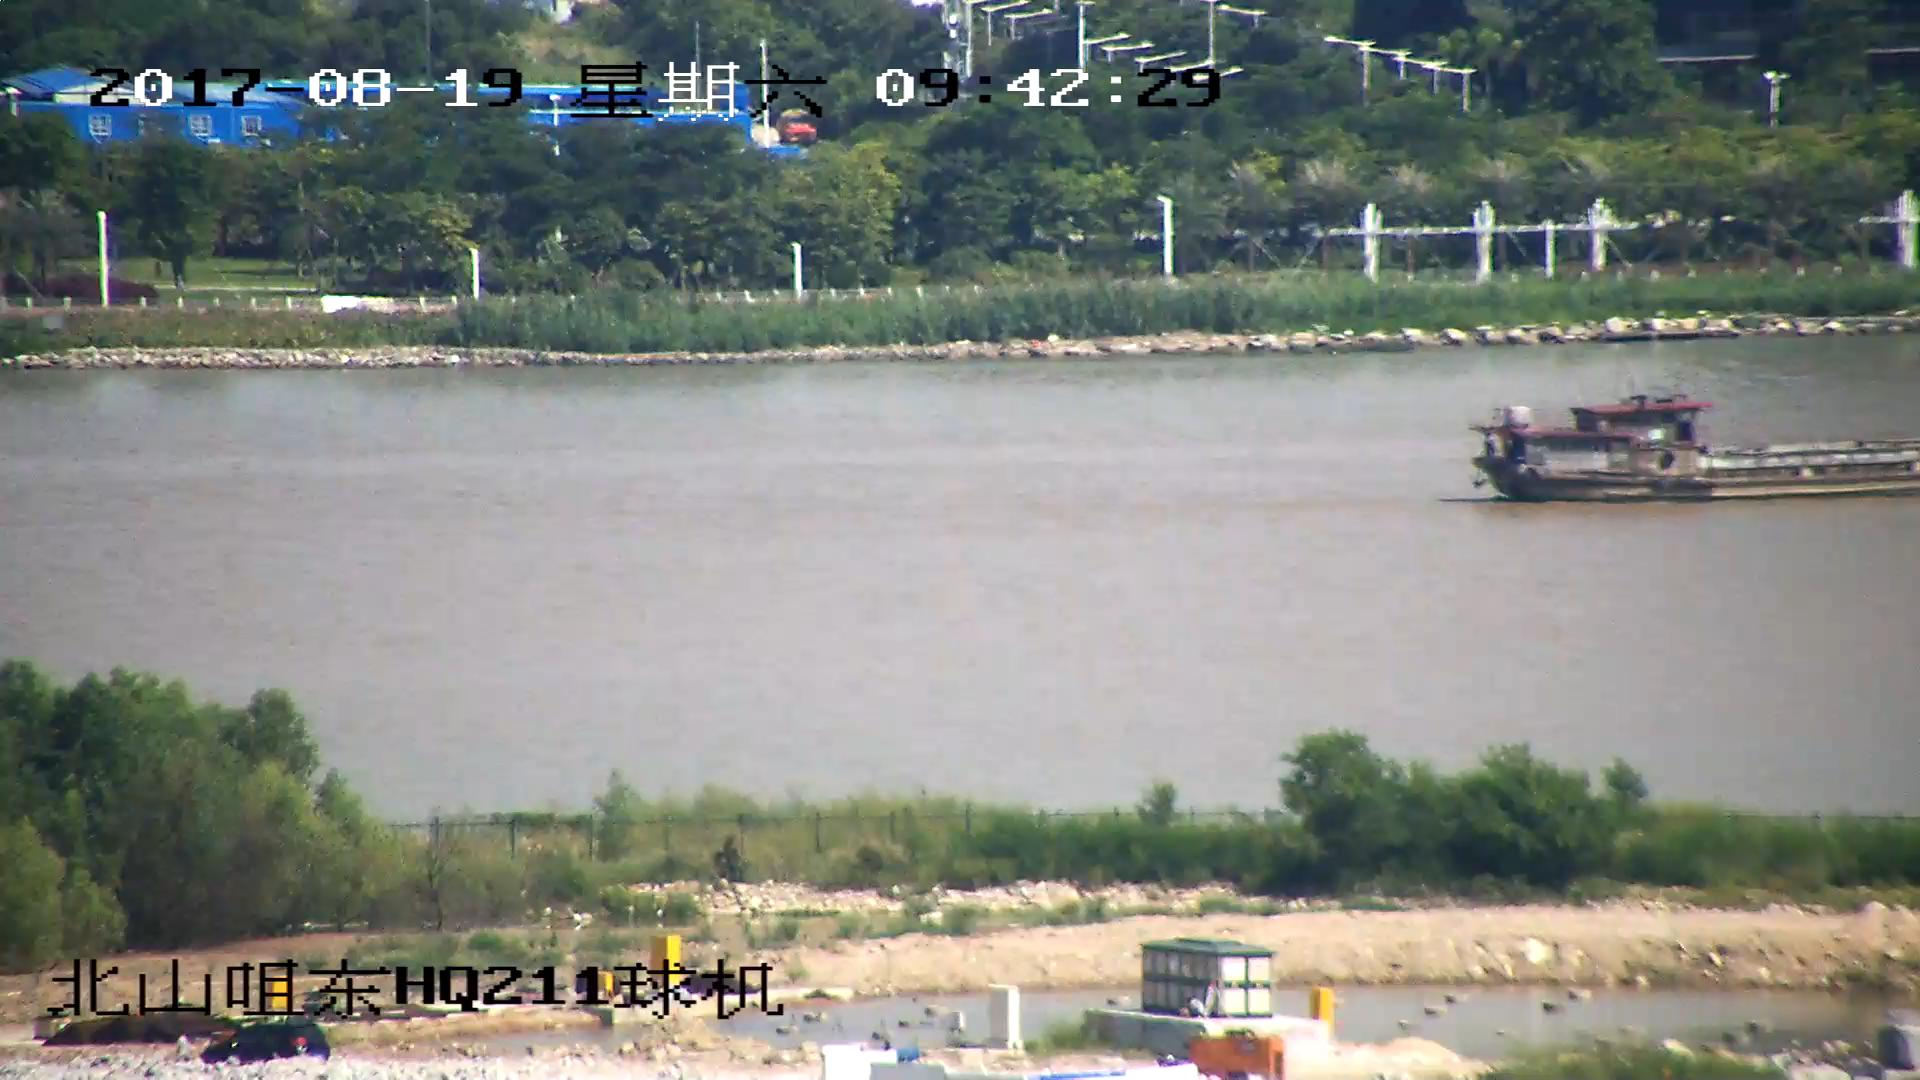fishing boat: (1461, 401, 1920, 497)
